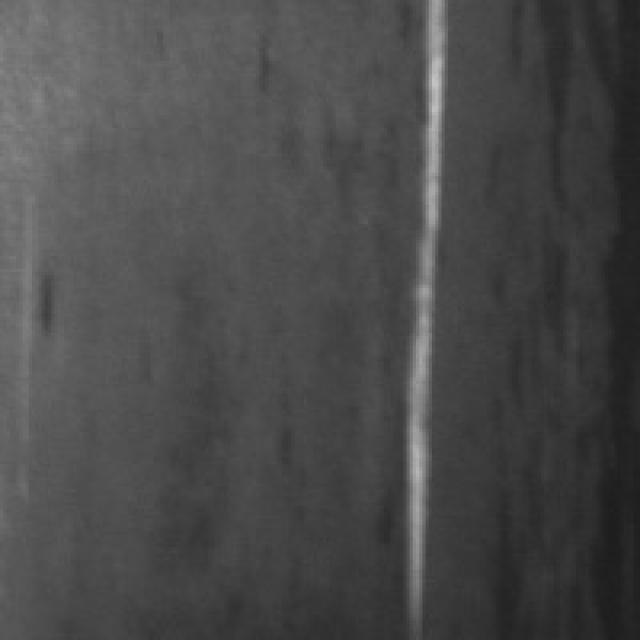inclusion: (525, 0, 637, 637)
scratches: (390, 0, 454, 630)
